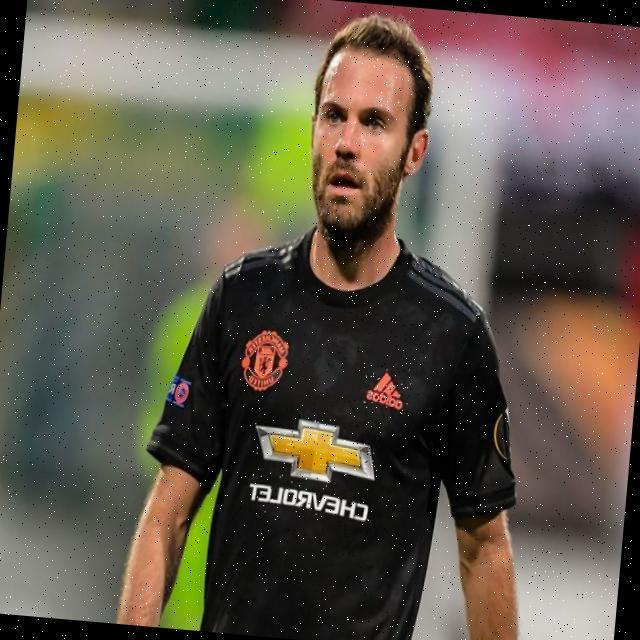Adidas: (363, 364, 413, 413)
Chevrolet: (247, 412, 378, 525)
